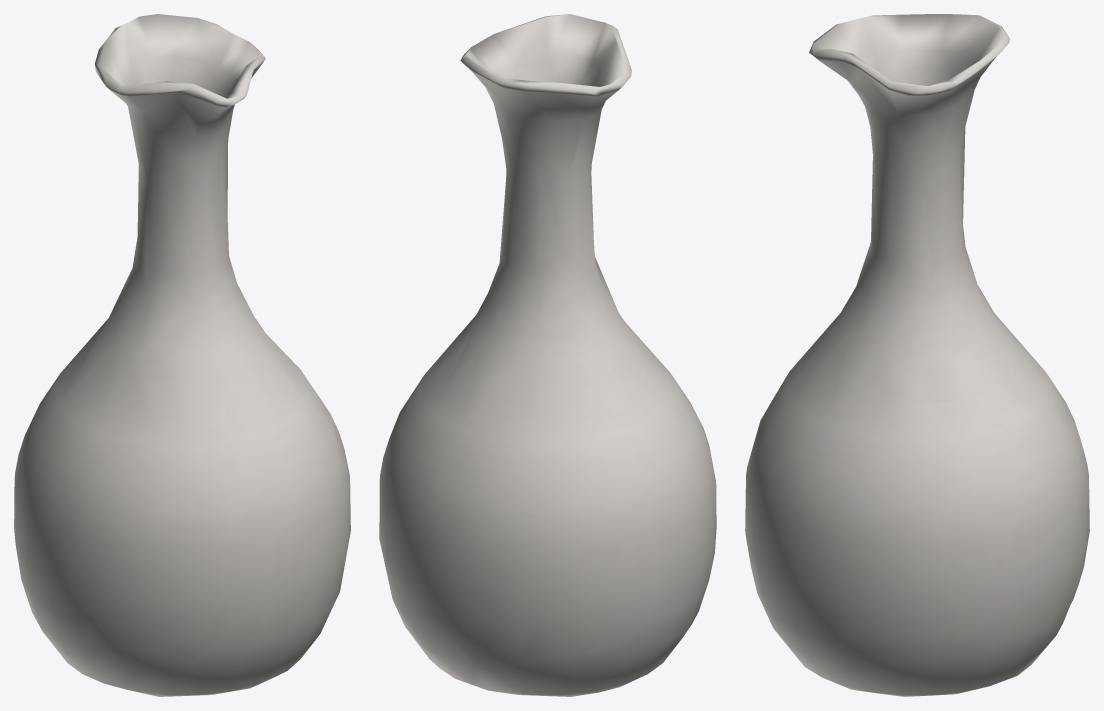
Rendered from ph_ceramic_vase_01.glb.
3 renders of one model, left to right at view 1: azimuth 30°, elevation 25°; view 2: azimuth 150°, elevation 25°; view 3: azimuth 270°, elevation 25°, orthographic. The views are drawn at different scales.
Visible parts, largest first — view 1: ceramic_vase_01; view 2: ceramic_vase_01; view 3: ceramic_vase_01.
Boxes of the visible parts, box(x1,y1,x2,y2) form: ceramic_vase_01: box(14, 14, 350, 696); ceramic_vase_01: box(379, 14, 716, 696); ceramic_vase_01: box(745, 14, 1089, 696).
Bounding box in the file's own units: 0.202 × 0.4002 × 0.2026.
Materials: 1 (1 with a texture image).
